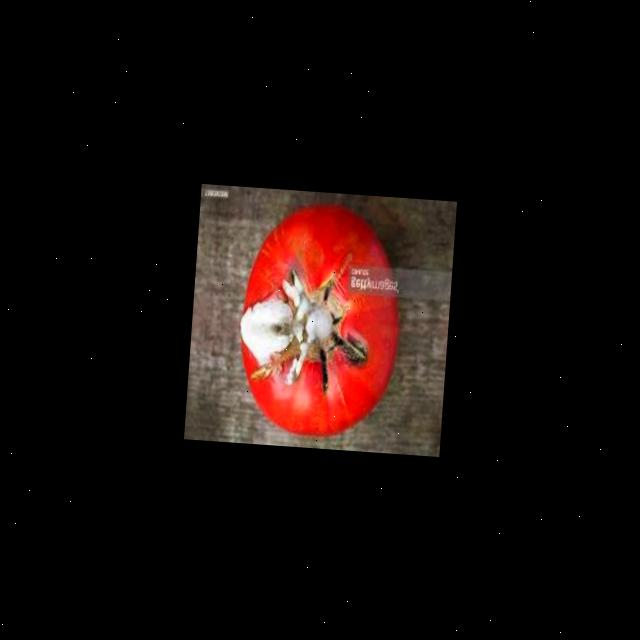tomato: (225, 196, 414, 449)
